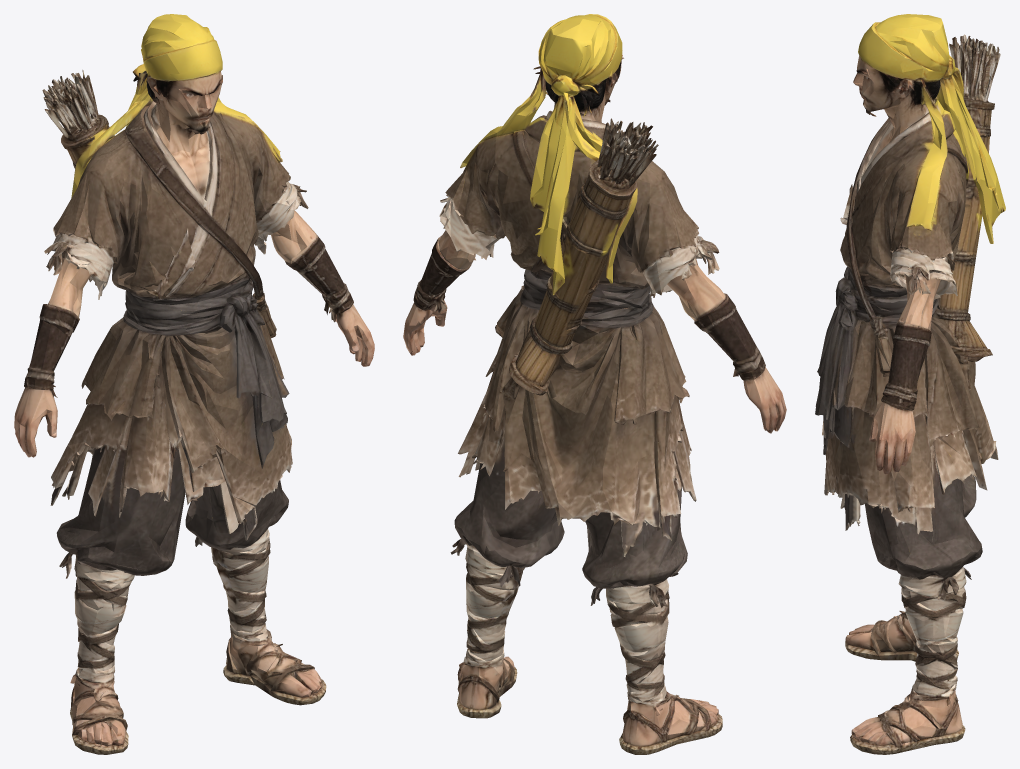
Rendered from glb.glb.
3 views of the same model, side by side, from view 1: azimuth 30°, elevation 25°; view 2: azimuth 150°, elevation 25°; view 3: azimuth 270°, elevation 25° (orthographic). The views are drawn at different scales.
Bounding box in the file's own units: 1.05 × 1.9 × 0.4839.
Materials: 1 (1 with a texture image).
